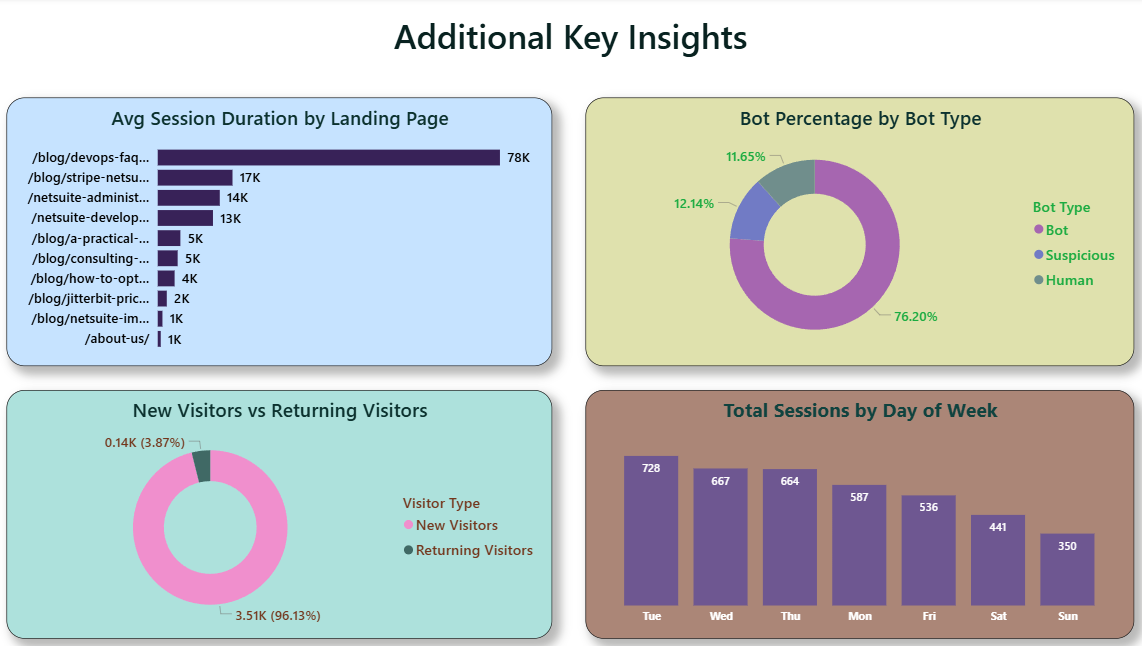

Layout of this report page (visuals, bound fields, positions):
{"tool":"powerbi","page":{"name":"Part 3","canvas":[1280,720],"ordinal":2},"visuals":[{"type":"barChart","title":"Avg Session Duration by Landing Page","fields":{"Category":["Session.landing_page"],"Y":["Session.Avg Session Duration"]},"box":[11.6,111,603,296.5],"z":0},{"type":"donutChart","fields":{"Category":["BotSignal.Bot Type"],"Y":["BotSignal.Bot Percentage"]},"box":[651,111,606.3,296.5],"z":1000},{"type":"donutChart","title":"New Visitors vs Returning Visitors","fields":{"Y":["Visitor.New Visitors","Visitor.Returning Visitors"]},"box":[11.6,434,603,275],"z":2000},{"type":"clusteredColumnChart","title":"Total Sessions by  Day of Week","fields":{"Category":["Date Table.Day Name"],"Y":["Session.Total Sessions"]},"box":[651,434,606.3,275],"z":3000},{"type":"textbox","box":[11.6,11.6,1245.7,79.5],"z":4000},{"type":"image","box":[14.2,12.2,99.2,79],"z":5000}]}

Visuals, with their boxes in screenshot pixels (x1, y1, x2, y2), scaled from the page's 1280x720 canvas onto the 1142x646 screenshot:
"Avg Session Duration by Landing Page" barChart: select_region(10, 100, 548, 366)
donutChart - BotSignal.Bot Type x BotSignal.Bot Percentage: select_region(581, 100, 1122, 366)
"New Visitors vs Returning Visitors" donutChart: select_region(10, 389, 548, 636)
"Total Sessions by  Day of Week" clusteredColumnChart: select_region(581, 389, 1122, 636)
textbox: select_region(10, 10, 1122, 82)
image: select_region(13, 11, 101, 82)
